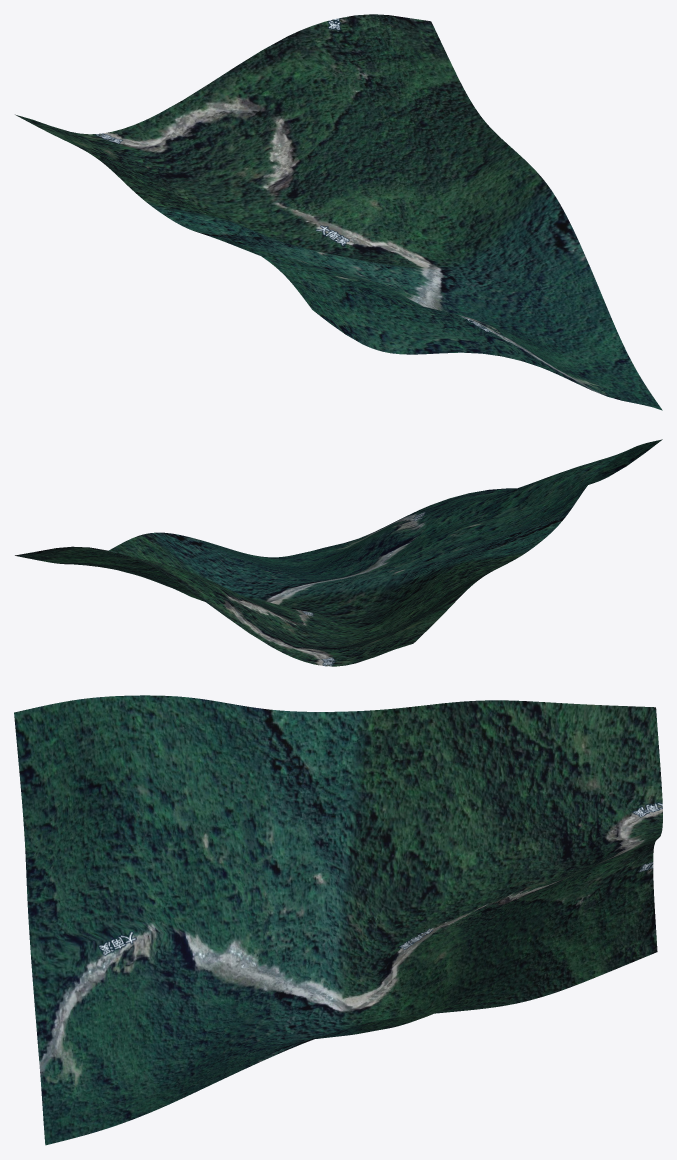
File: landpic.glb
3 views of the same model, one above another, from view 1: azimuth 30°, elevation 25°; view 2: azimuth 150°, elevation 25°; view 3: azimuth 270°, elevation 25° (orthographic). The views are drawn at different scales.
Parts seen in each view (by area): view 1: Mesh_0; view 2: Mesh_0; view 3: Mesh_0.
Part boxes in pixels (box(x1,y1,x2,y2)): Mesh_0: box(15, 14, 662, 410); Mesh_0: box(15, 439, 662, 666); Mesh_0: box(14, 695, 662, 1145).
Bounding box in the file's own units: 118 × 58.07 × 139.
Materials: 1 (1 with a texture image).
